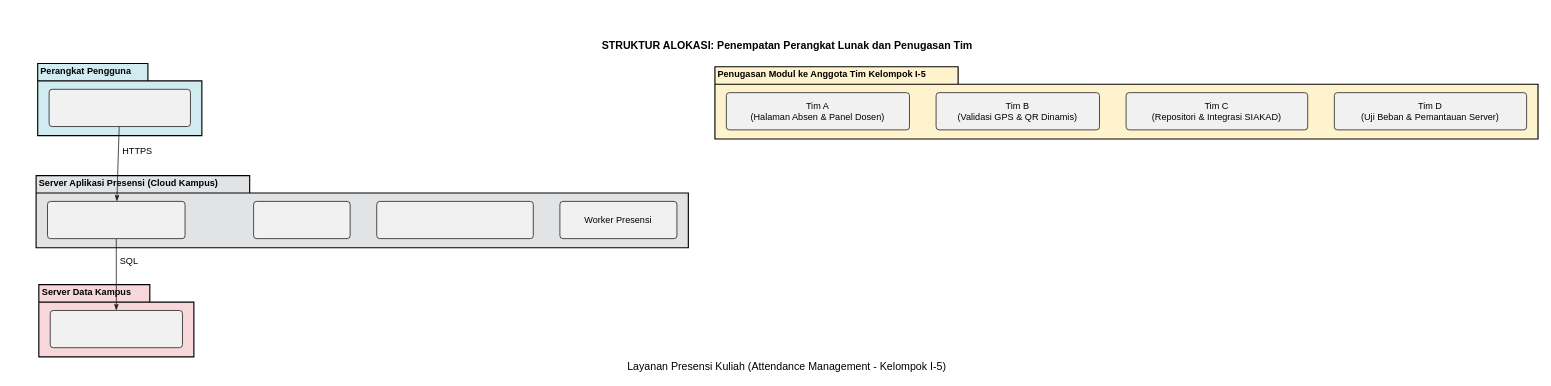
Image size: 1551x386. Some labels were removed from this diagram. Here are the shapes that lost their labels. From the top down, the box of each, then its label:
(48, 89, 190, 127): Browser / Mobile App (Mahasiswa & Dosen)
(47, 201, 185, 239): Server Web Presensi
(253, 201, 350, 239): Cache (Redis)
(376, 201, 533, 239): Antrean Pesan (RabbitMQ)
(49, 310, 182, 348): Basis Data Akademik (SIAKAD UMI)
